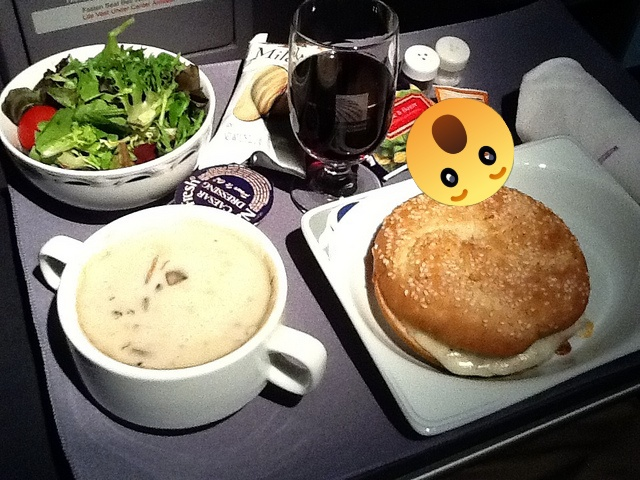wow: (406, 98, 514, 206)
